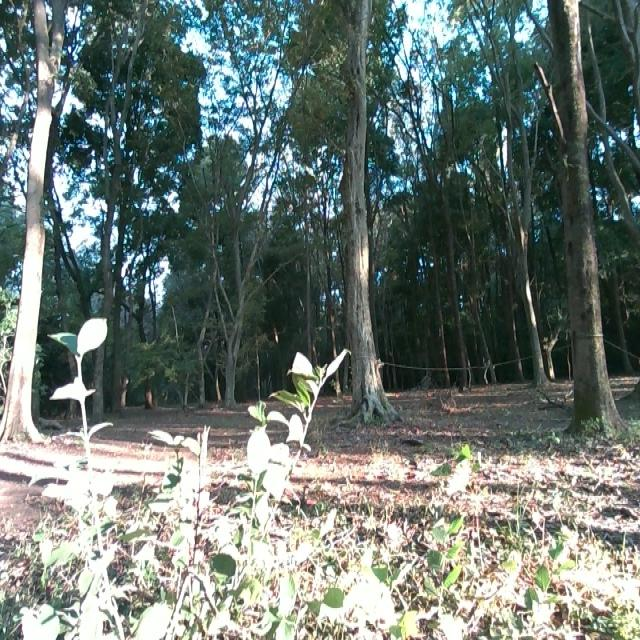bush: (4, 306, 364, 640)
tree: (548, 2, 624, 444), (1, 0, 67, 445), (342, 0, 389, 429), (492, 83, 546, 391), (90, 0, 117, 413), (218, 205, 247, 410)
